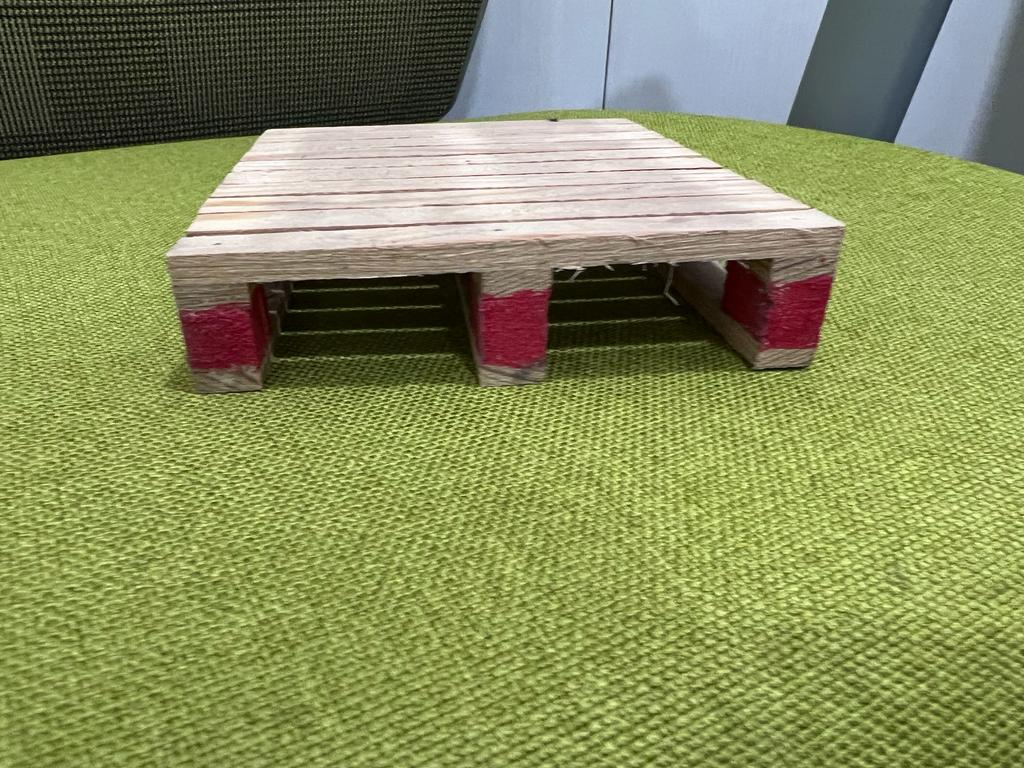pallet: (151, 117, 844, 394)
